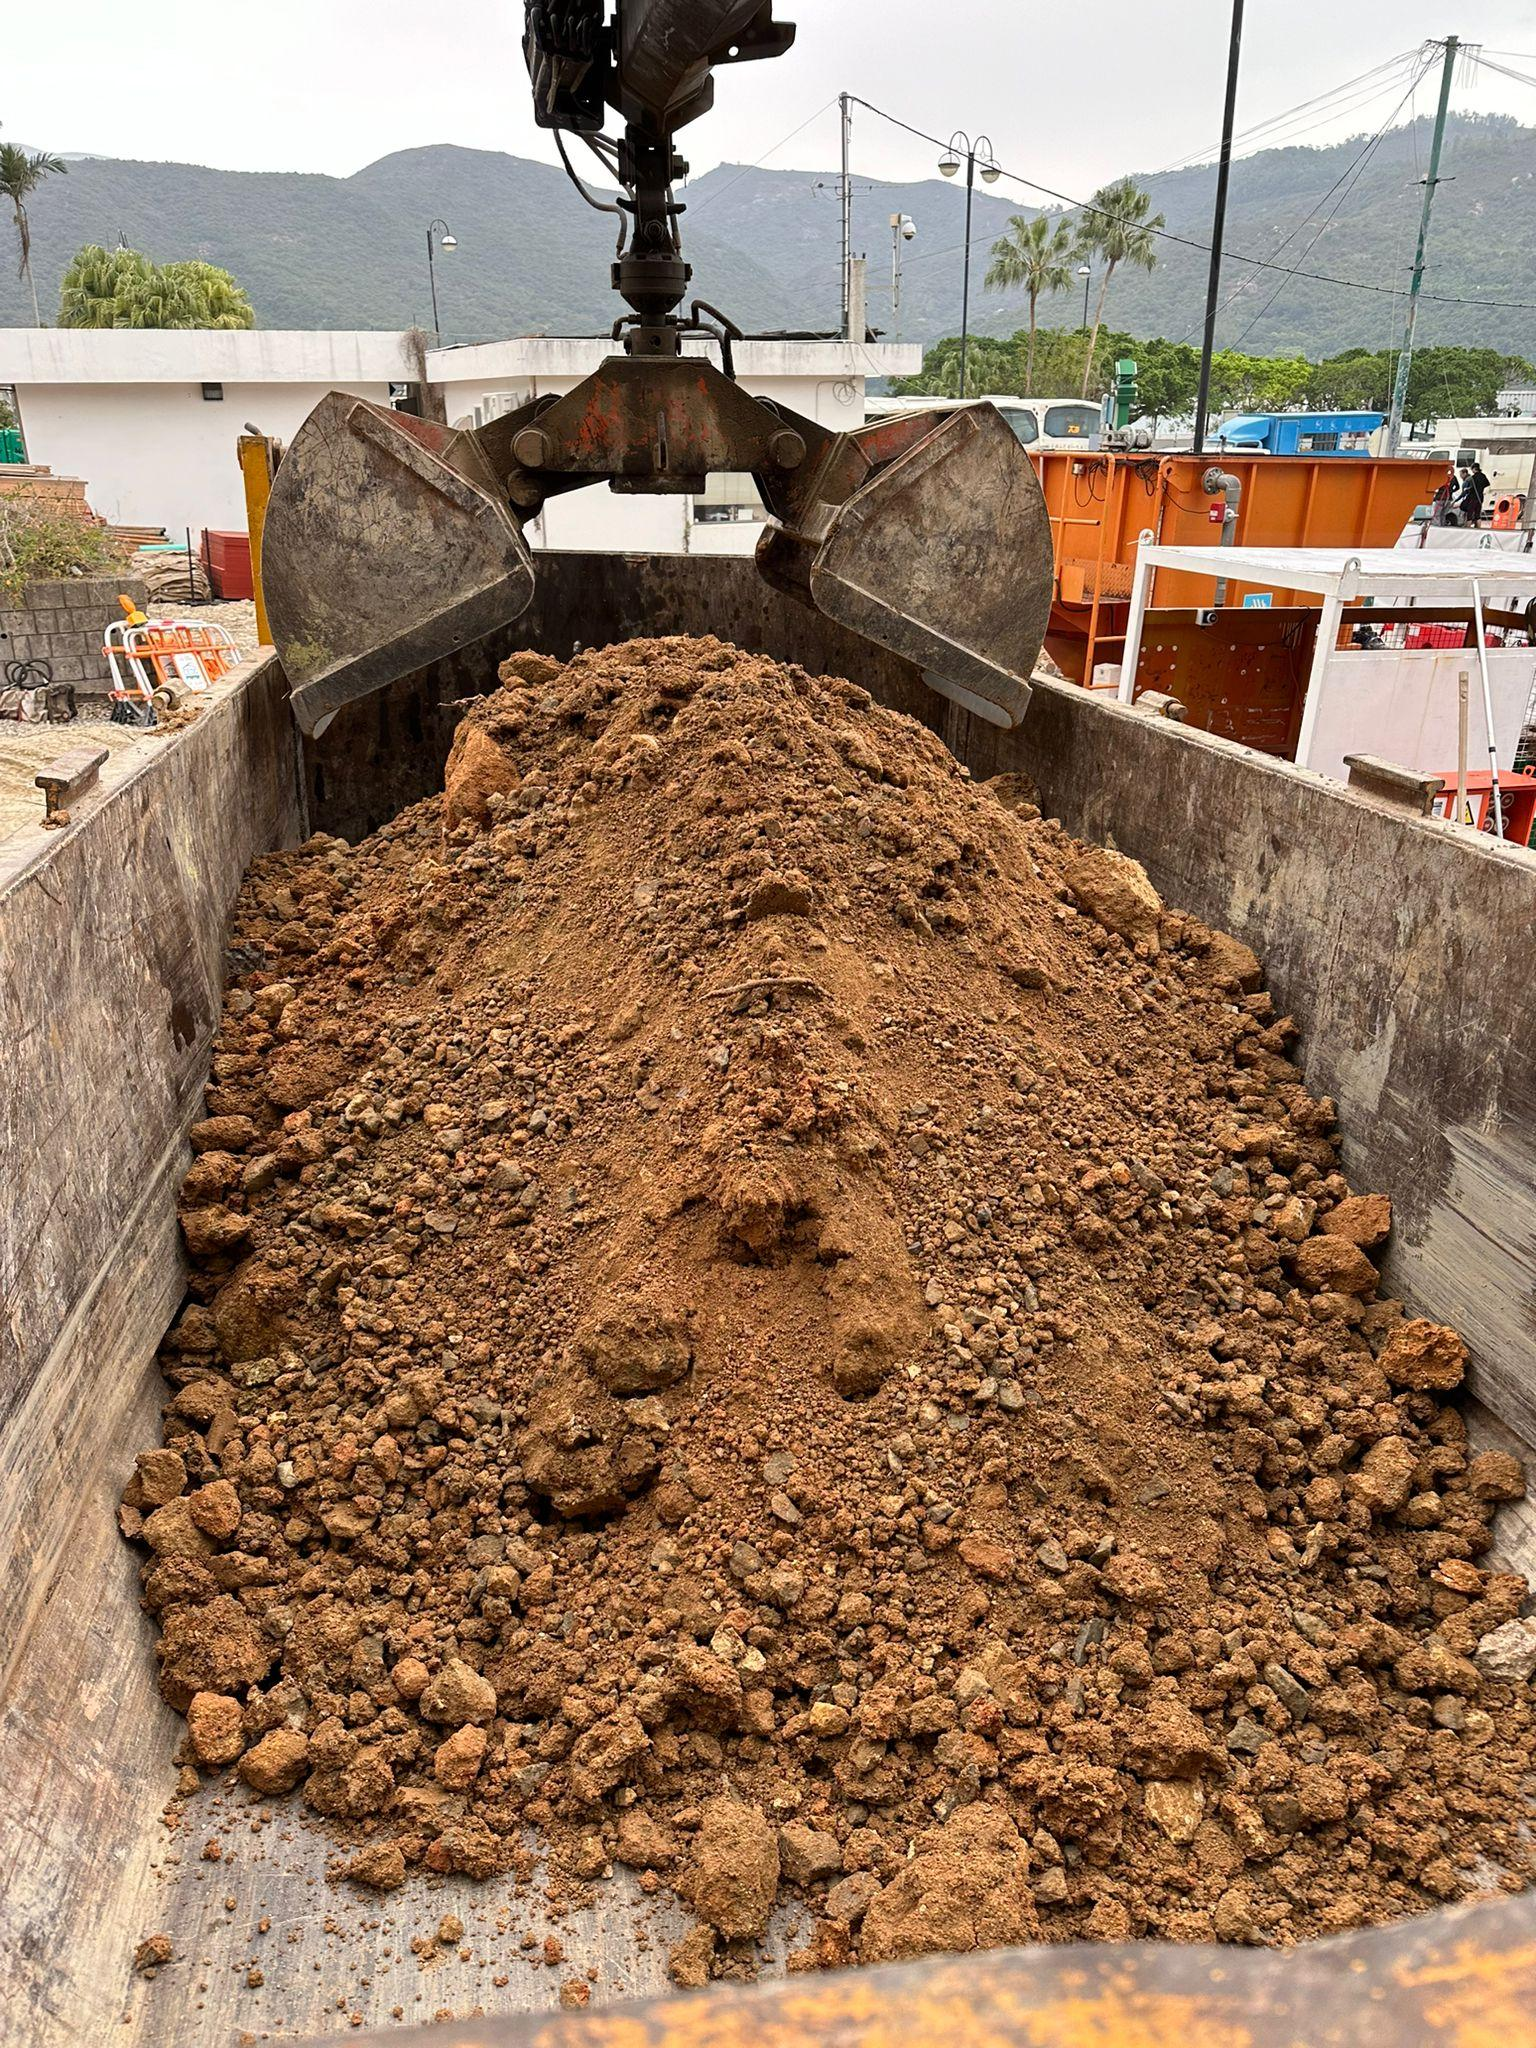wet: (213, 653, 1486, 1930)
